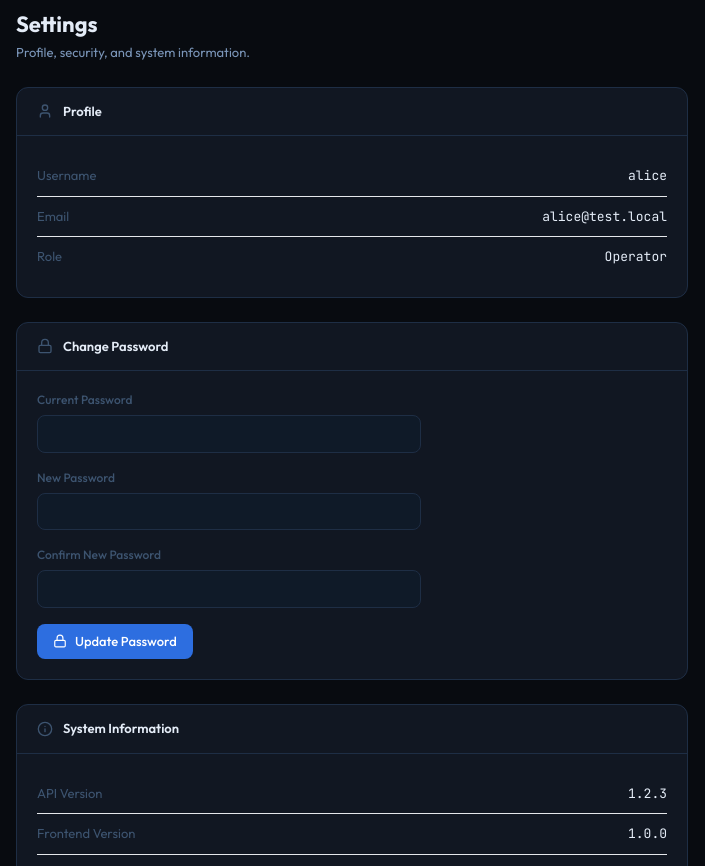
Test case: SettingsPage › shows local error when new password confirmation differs
This screenshot has width=705, height=866.
In the password field labelled "Current Password": (229, 434) x1=37 y1=415 x2=421 y2=452, type "oldpass123"
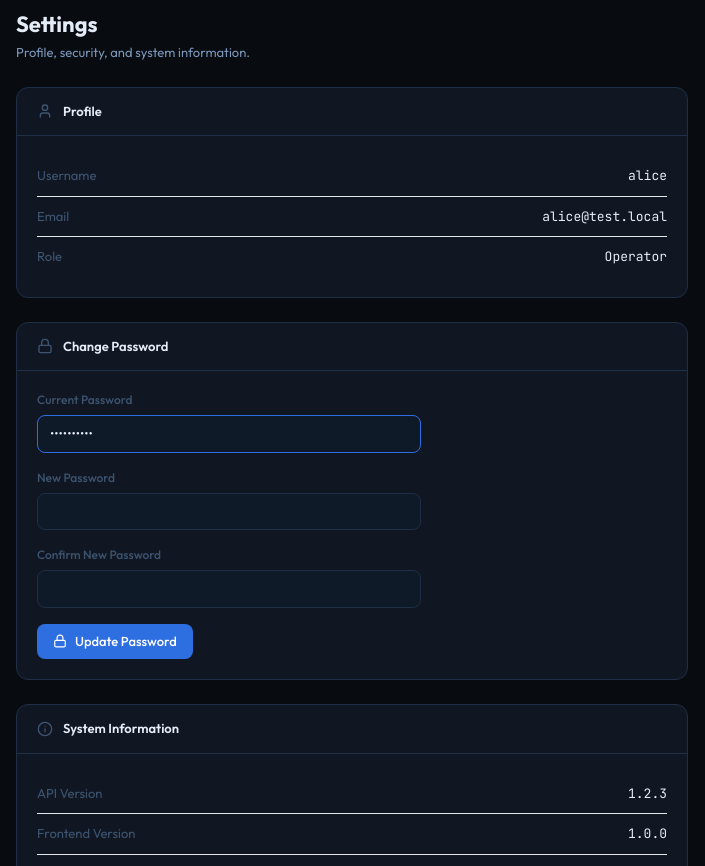
In the password field labelled "New Password": (229, 511) x1=37 y1=492 x2=421 y2=530, type "newpass123"
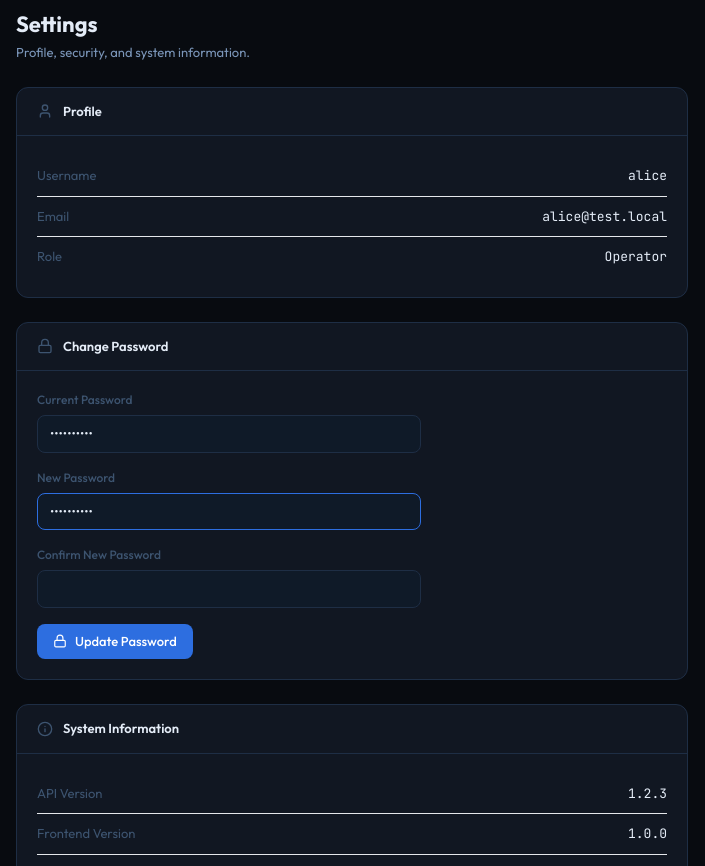
In the password field labelled "Confirm New Password": (229, 589) x1=37 y1=570 x2=421 y2=608, type "different123"
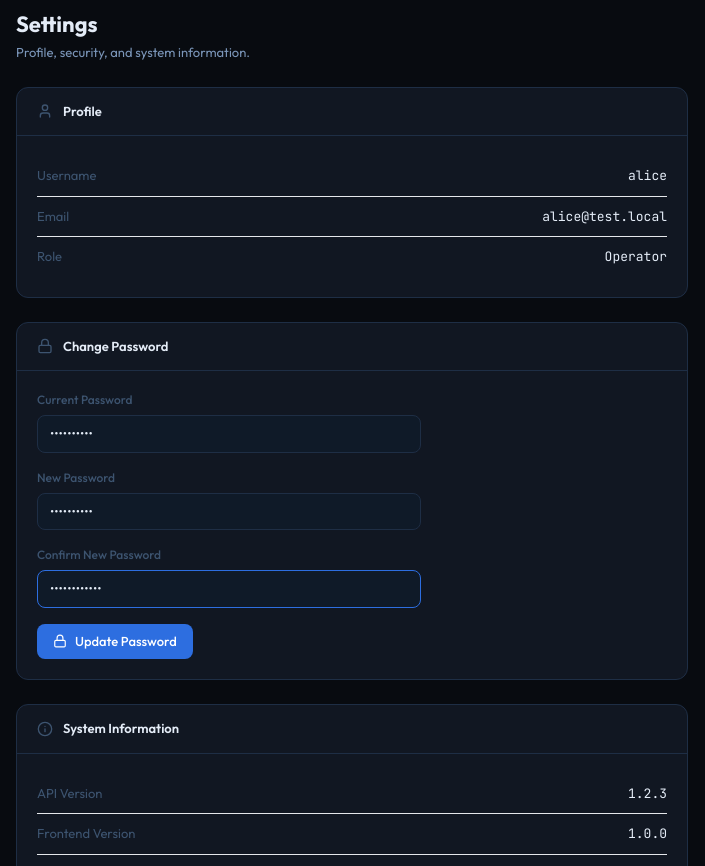
Click the button "Update Password": (115, 641) x1=37 y1=624 x2=193 y2=659
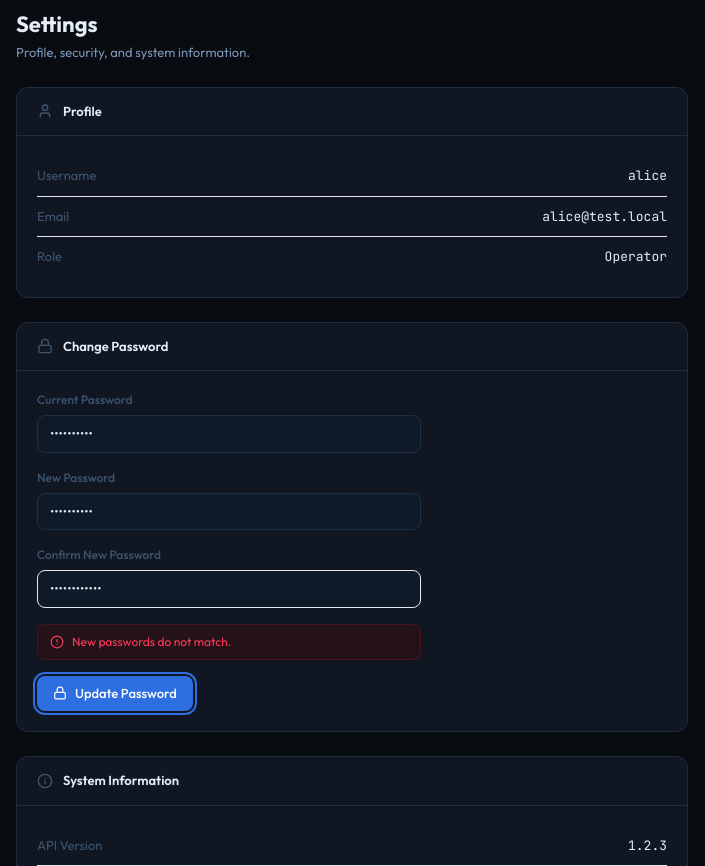
Now the text "New passwords do not match." is shown, box x1=37 y1=624 x2=421 y2=660
